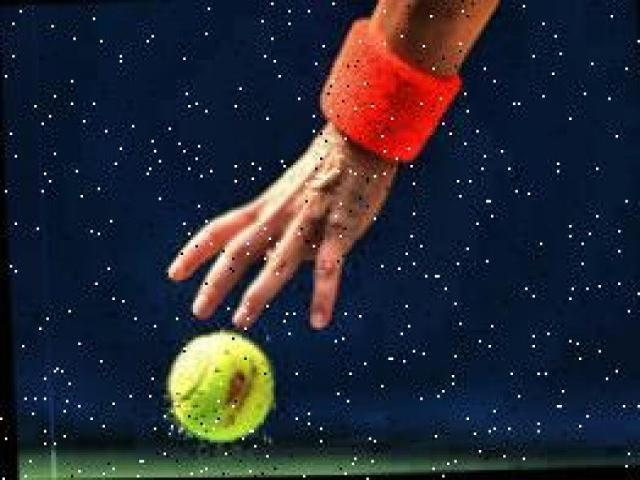tennis-ball: (169, 334, 275, 442)
